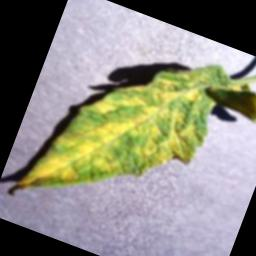Leaf_Mold: (7, 10, 256, 256)
